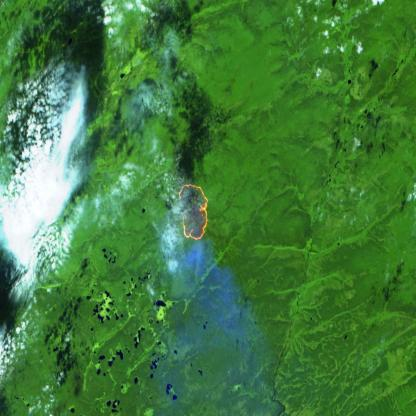fire: (169, 176, 211, 249)
